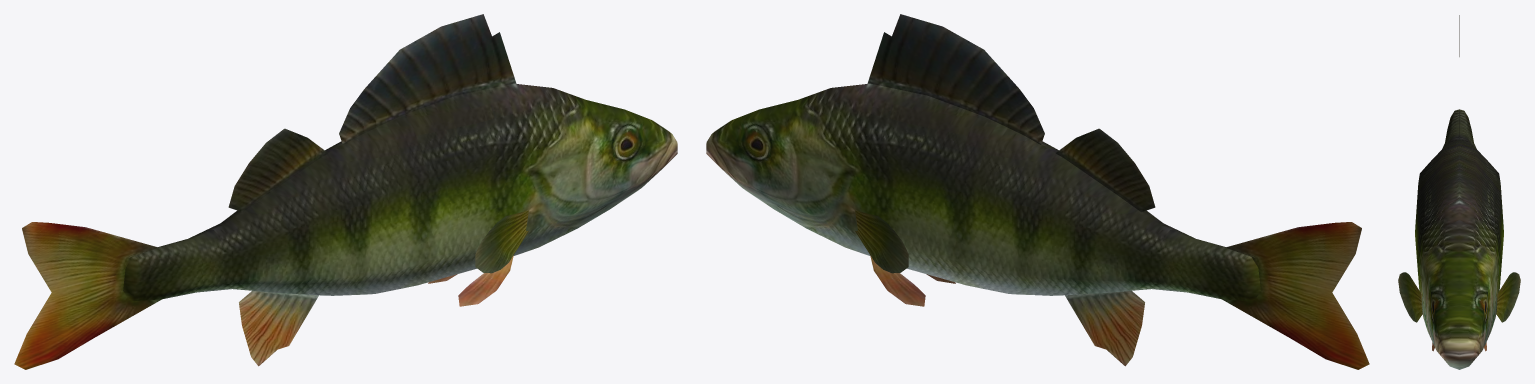
File: EuropeanPerch.glb
The picture shows the model from 3 angles, left to right: view 1: azimuth 30°, elevation 25°; view 2: azimuth 150°, elevation 25°; view 3: azimuth 270°, elevation 25°; orthographic projection. The views are drawn at different scales.
Parts seen in each view (by area): view 1: EuropeanPerch; view 2: EuropeanPerch; view 3: EuropeanPerch.
Boxes of the visible parts, bbox=[...] form: EuropeanPerch: bbox=[14, 14, 677, 369]; EuropeanPerch: bbox=[706, 14, 1369, 369]; EuropeanPerch: bbox=[1398, 15, 1520, 369].
Bounding box in the file's own units: 2 × 0.8635 × 0.3711.
Materials: 1 (1 with a texture image).
